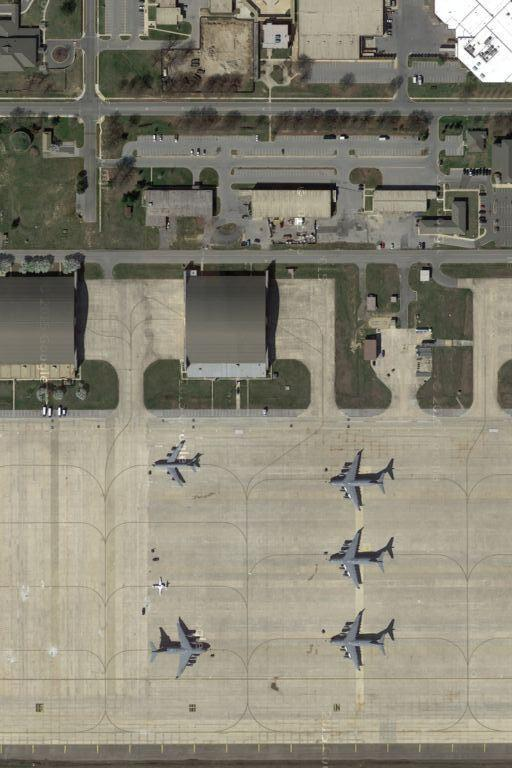C-17: (327, 448, 393, 515), (324, 609, 390, 675), (324, 526, 391, 590), (147, 619, 212, 683)
KC-135: (150, 440, 201, 489)
